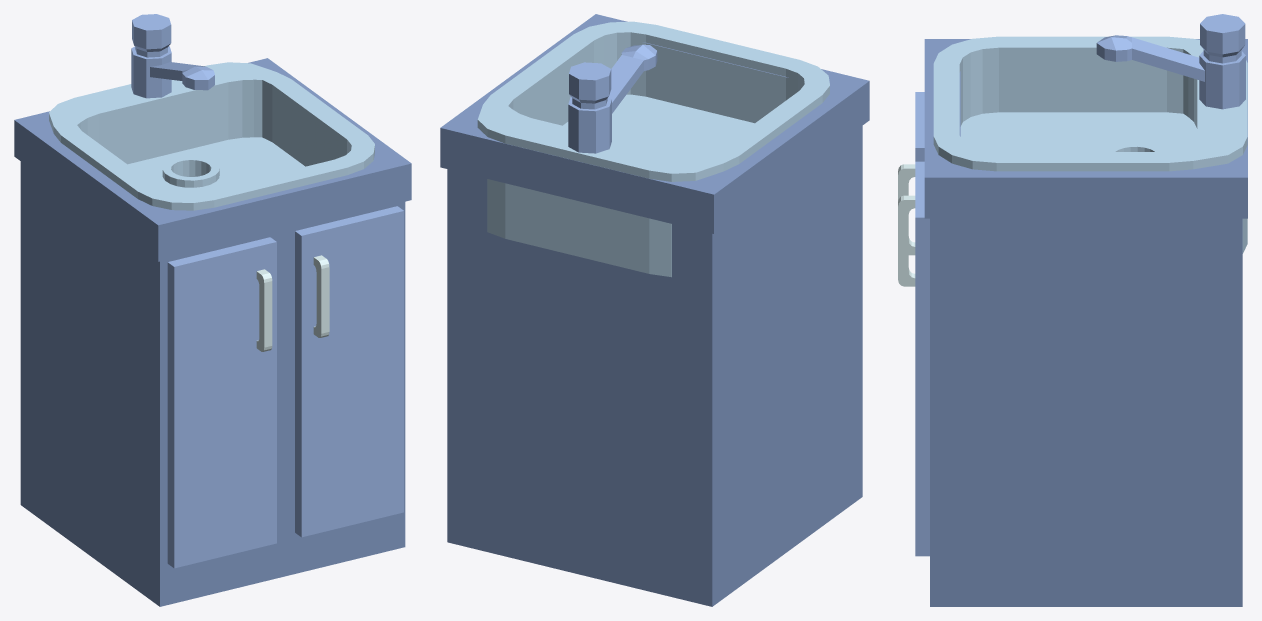
The model's file is 5 sink.fbx.
3 views of the same model, side by side, from view 1: azimuth 30°, elevation 25°; view 2: azimuth 150°, elevation 25°; view 3: azimuth 270°, elevation 25° (orthographic). The views are drawn at different scales.
Visible parts, largest first — view 1: 5 sink; view 2: 5 sink; view 3: 5 sink.
Boxes of the visible parts, bbox=[...] form: 5 sink: bbox=[14, 14, 411, 606]; 5 sink: bbox=[440, 14, 869, 606]; 5 sink: bbox=[898, 14, 1247, 606].
Size of the model in its own units: 34.52 by 59.78 by 36.76.
